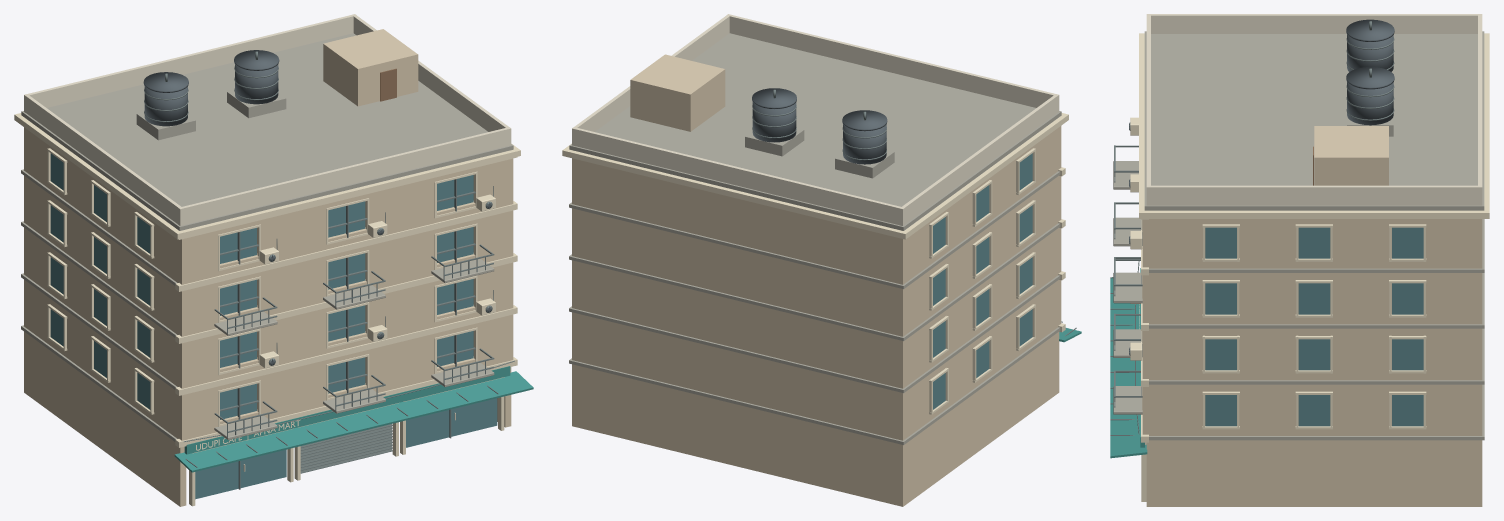
The model's file is corner-shop.glb.
3 views of the same model, side by side, from view 1: azimuth 30°, elevation 25°; view 2: azimuth 150°, elevation 25°; view 3: azimuth 270°, elevation 25° (orthographic). The views are drawn at different scales.
Visible parts, largest first — view 1: corner-shop_PLASTER, corner-shop_CONCRETE, corner-shop_CREAM, corner-shop_GLASS, corner-shop_PLASTER_LIGHT, corner-shop_AWNING, corner-shop_METAL, corner-shop_TANK, corner-shop_SHUTTER; view 2: corner-shop_PLASTER, corner-shop_CONCRETE, corner-shop_PLASTER_LIGHT, corner-shop_CREAM, corner-shop_GLASS, corner-shop_TANK, corner-shop_METAL; view 3: corner-shop_PLASTER, corner-shop_CONCRETE, corner-shop_PLASTER_LIGHT, corner-shop_CREAM, corner-shop_GLASS, corner-shop_TANK, corner-shop_AWNING, corner-shop_METAL.
Boxes of the visible parts, x1,y1,x2,y2 form: corner-shop_PLASTER: [24, 29, 513, 506]; corner-shop_CONCRETE: [21, 33, 513, 441]; corner-shop_CREAM: [14, 113, 520, 506]; corner-shop_GLASS: [50, 153, 497, 499]; corner-shop_PLASTER_LIGHT: [24, 14, 511, 225]; corner-shop_AWNING: [174, 366, 533, 472]; corner-shop_METAL: [144, 51, 514, 489]; corner-shop_TANK: [143, 50, 492, 365]; corner-shop_SHUTTER: [300, 424, 391, 472]; corner-shop_PLASTER: [572, 54, 1061, 506]; corner-shop_CONCRETE: [569, 33, 1061, 445]; corner-shop_PLASTER_LIGHT: [572, 14, 1059, 225]; corner-shop_CREAM: [562, 113, 1068, 414]; corner-shop_GLASS: [933, 153, 1032, 409]; corner-shop_TANK: [752, 88, 887, 164]; corner-shop_METAL: [752, 89, 1076, 336]; corner-shop_PLASTER: [1142, 126, 1482, 506]; corner-shop_CONCRETE: [1113, 31, 1484, 440]; corner-shop_PLASTER_LIGHT: [1146, 14, 1482, 205]; corner-shop_CREAM: [1130, 33, 1489, 501]; corner-shop_GLASS: [1205, 227, 1423, 426]; corner-shop_TANK: [1129, 19, 1394, 354]; corner-shop_AWNING: [1110, 268, 1147, 458]; corner-shop_METAL: [1110, 21, 1394, 435].
Size of the model in its own units: 22.8 by 21.25 by 20.35.
